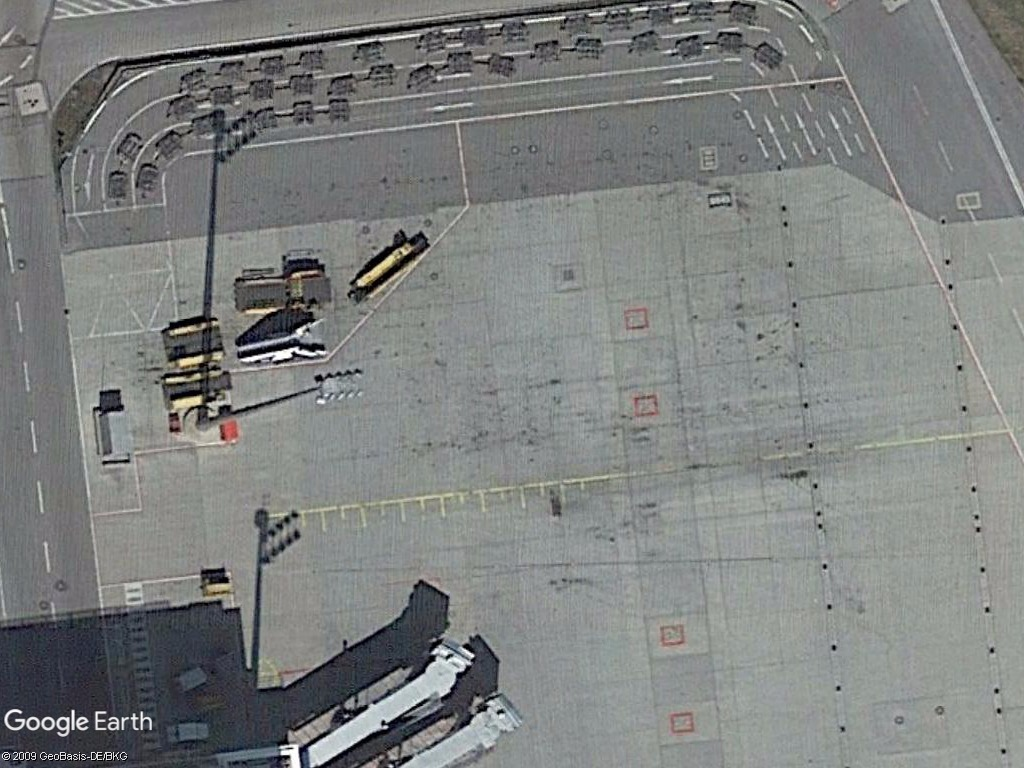stairtruck: (233, 318, 328, 372)
